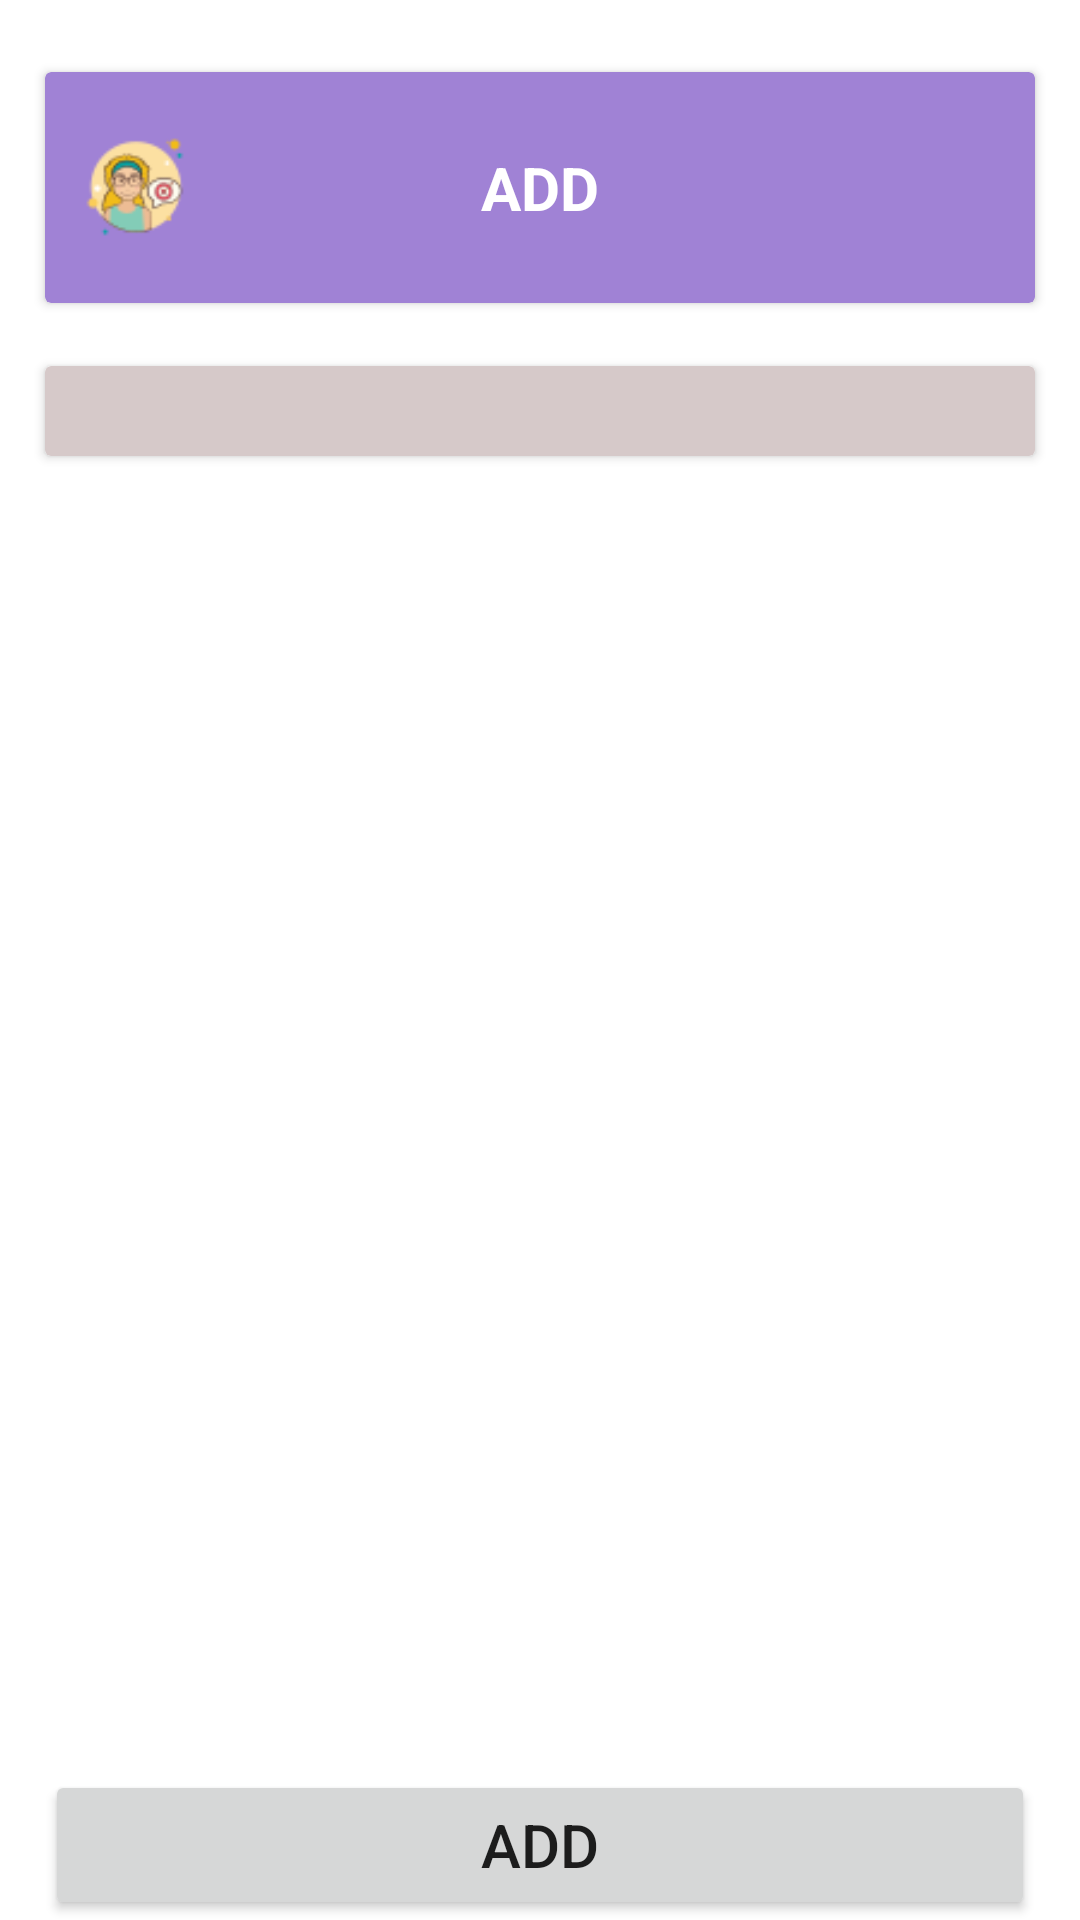

Named icons in this screenshot (1080 x 1920) and their centers, (x=x, y=y):
character: (x=135, y=186)
